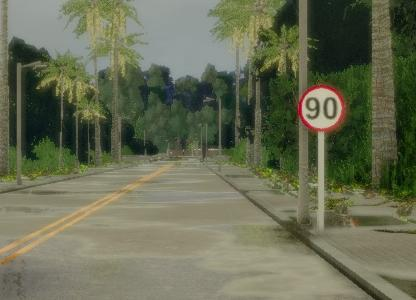Speed_90: (298, 82, 346, 134)
